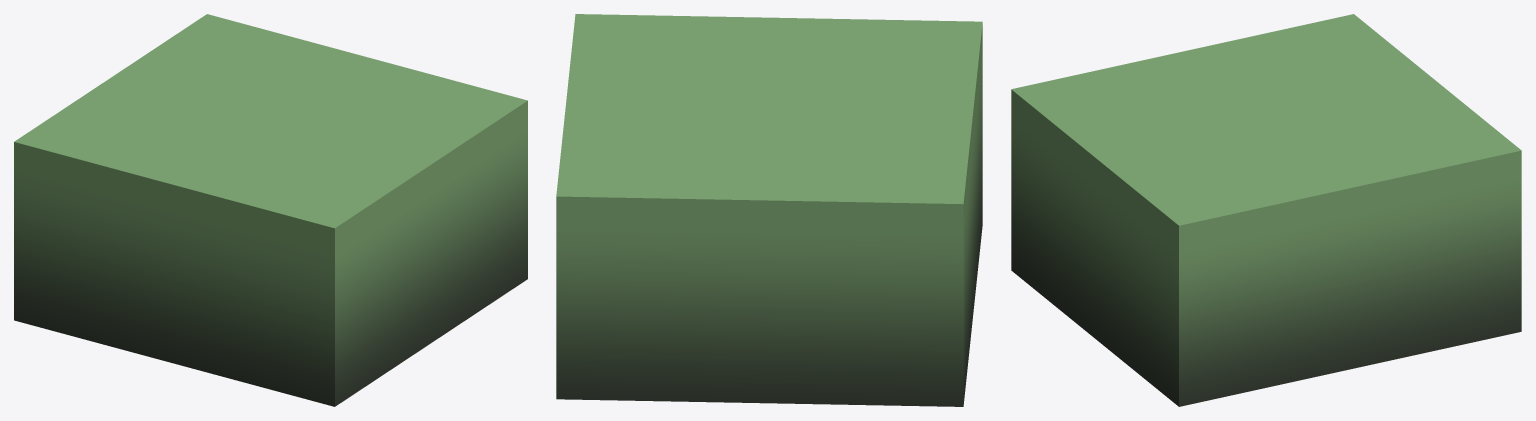
The model's file is Plat01.037.glb.
3 views of the same model, side by side, from view 1: azimuth 30°, elevation 25°; view 2: azimuth 150°, elevation 25°; view 3: azimuth 270°, elevation 25° (orthographic). The views are drawn at different scales.
Parts seen in each view (by area): view 1: Plat01.037; view 2: Plat01.037; view 3: Plat01.037.
Part boxes in pixels (<box>): Plat01.037: <box>14,14,527,406</box>; Plat01.037: <box>556,14,982,406</box>; Plat01.037: <box>1011,14,1521,406</box>.
Size of what is drawn, in the model's own units: 4.3 by 1.71 by 4.38.
Materials: 1 (1 with a texture image).
